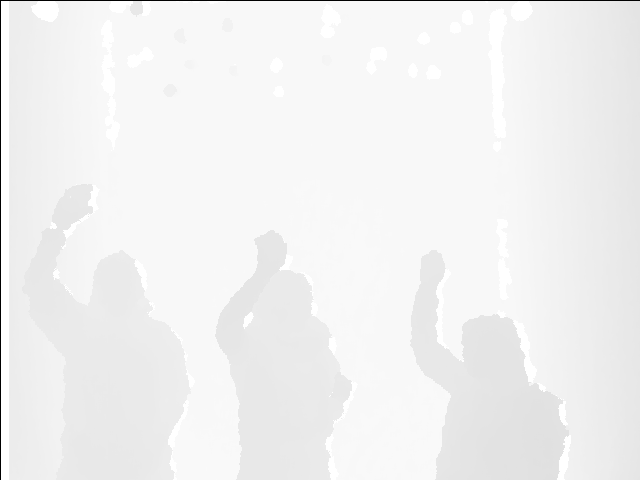hand: (52, 182, 97, 232), (253, 227, 290, 267), (417, 250, 450, 289)
